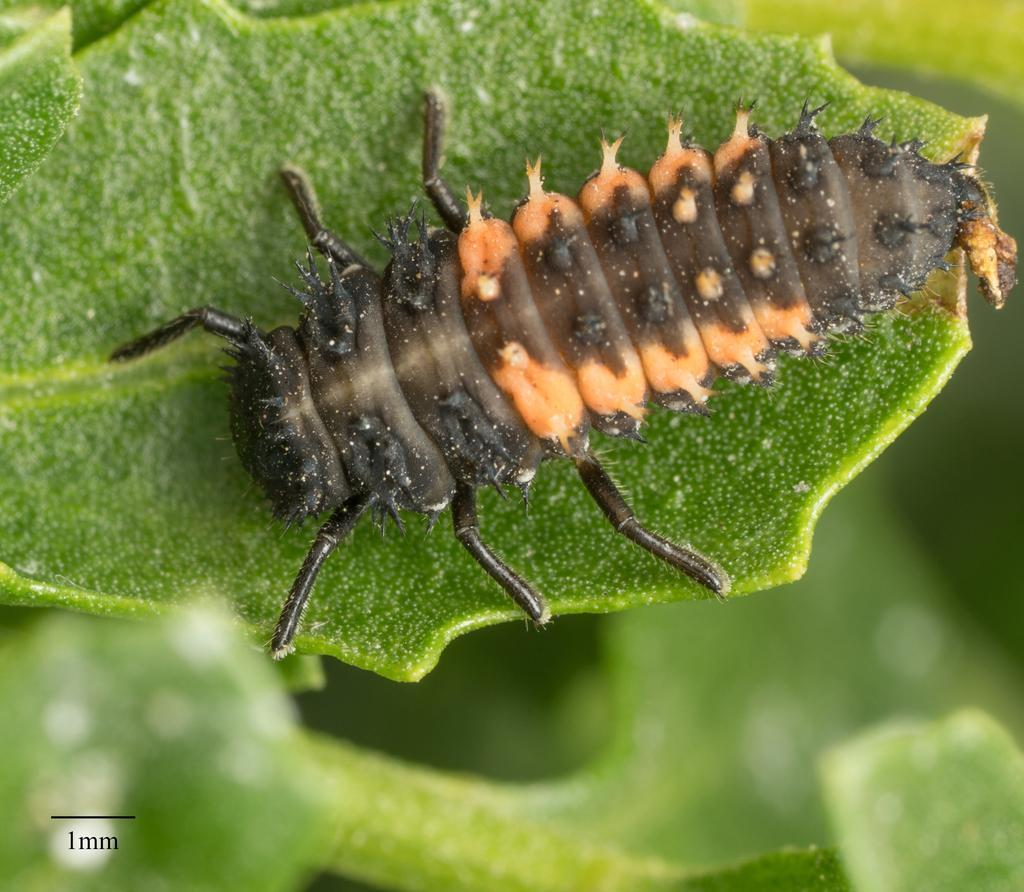ladybug: (104, 74, 1024, 664)
